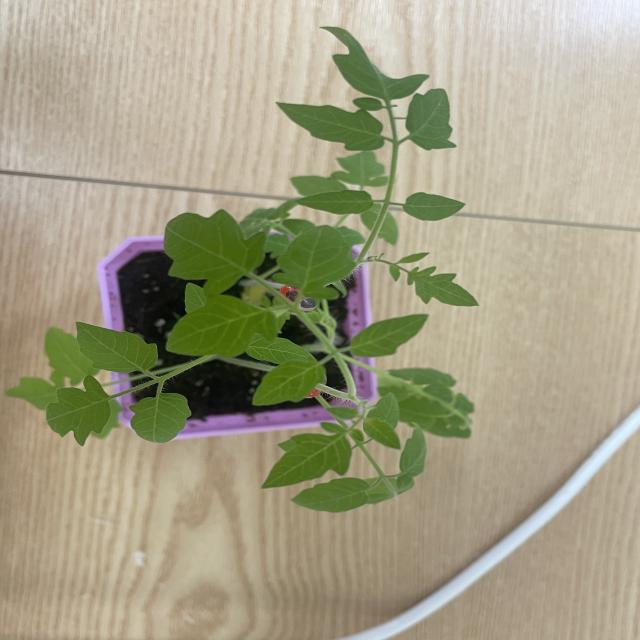bug: (271, 272, 318, 319), (290, 374, 332, 416)
